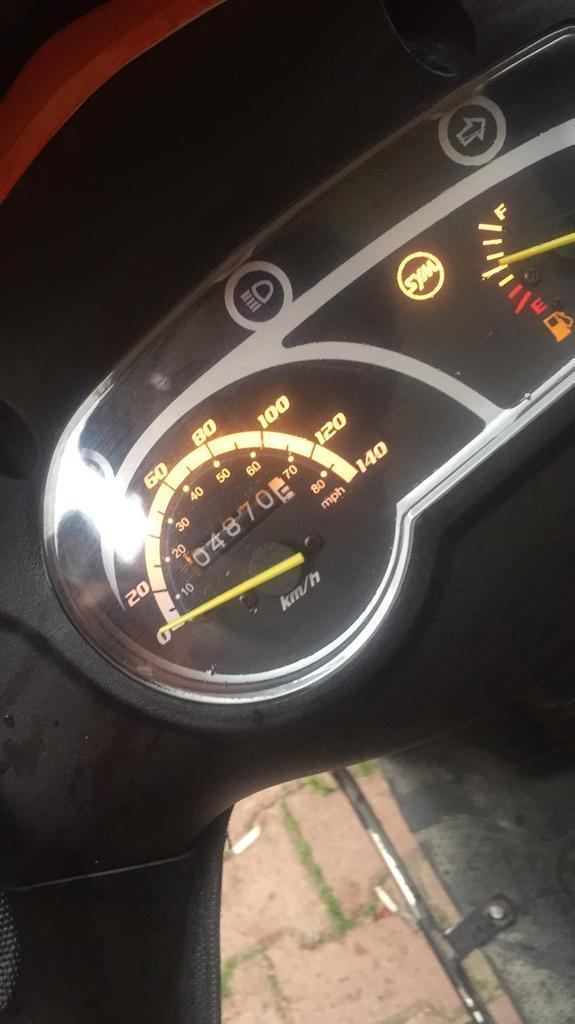0: (253, 487, 274, 511), (190, 547, 212, 566), (194, 485, 204, 495), (180, 517, 189, 526), (178, 544, 186, 553)
3: (175, 522, 184, 530)
4: (208, 530, 226, 551), (190, 490, 198, 500)
5: (276, 483, 296, 501), (216, 472, 225, 482)
7: (235, 500, 256, 522), (282, 469, 291, 479)
8: (220, 516, 242, 537)
odometer: (179, 473, 300, 570)
